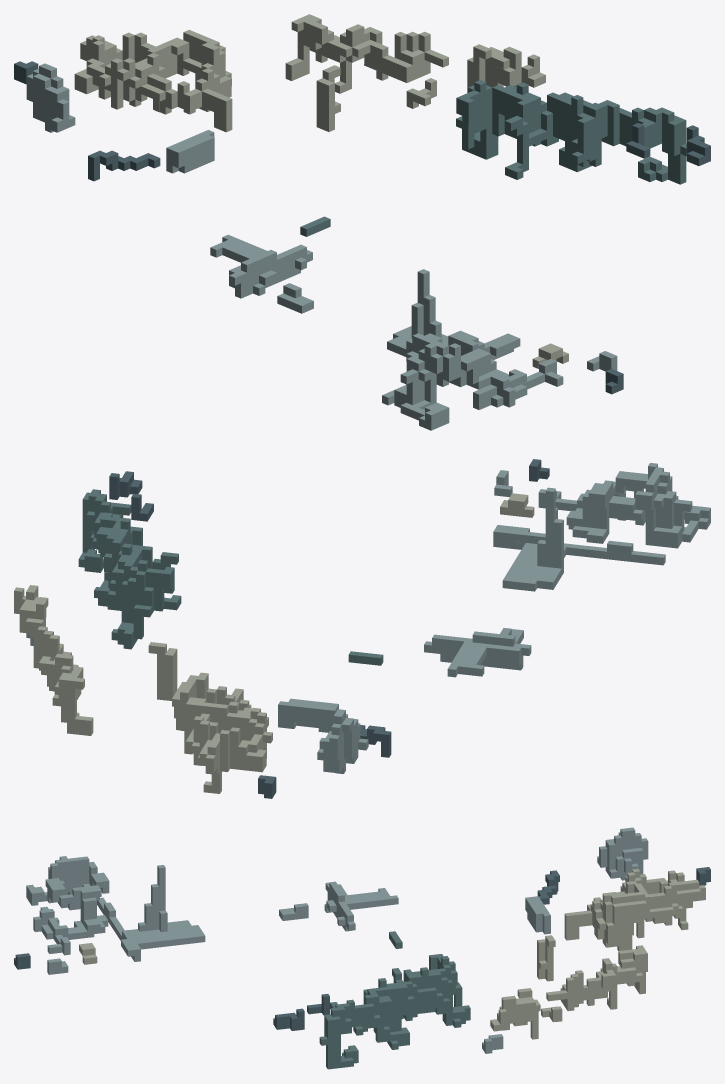
3 views of the same model, one above another, from view 1: azimuth 30°, elevation 25°; view 2: azimuth 150°, elevation 25°; view 3: azimuth 270°, elevation 25° (orthographic). The views are drawn at different scales.
Visible parts, largest first — view 1: measured-industrial; view 2: measured-industrial; view 3: measured-industrial.
Boxes of the visible parts, bbox=[...] form: measured-industrial: bbox=[14, 14, 710, 430]; measured-industrial: bbox=[14, 459, 710, 798]; measured-industrial: bbox=[14, 827, 710, 1069].
Size of the model in its own units: 93.8 by 18.01 by 155.
